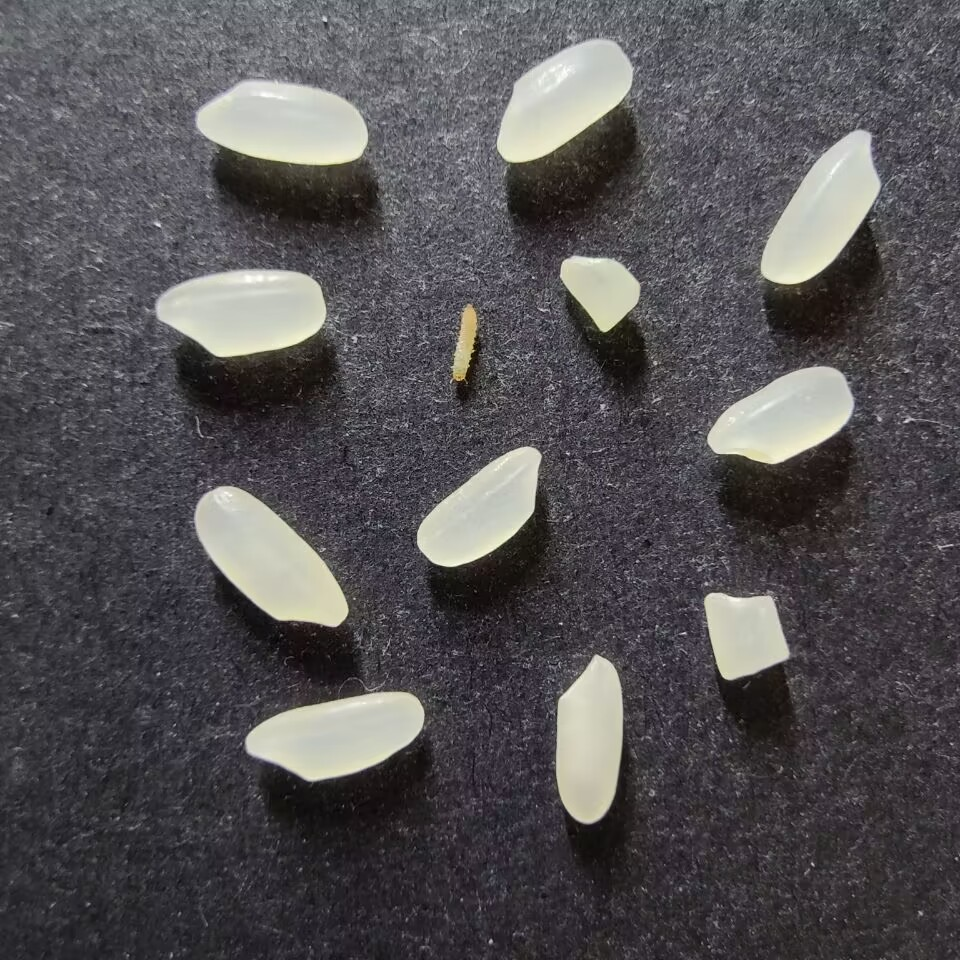broken: (703, 591, 790, 680), (559, 255, 642, 333)
others: (447, 302, 478, 386)
rice: (193, 485, 348, 628), (760, 129, 880, 284), (496, 38, 633, 163), (244, 691, 424, 781), (415, 446, 542, 568), (154, 269, 327, 358), (195, 80, 368, 165), (707, 365, 853, 465), (554, 654, 623, 825)
